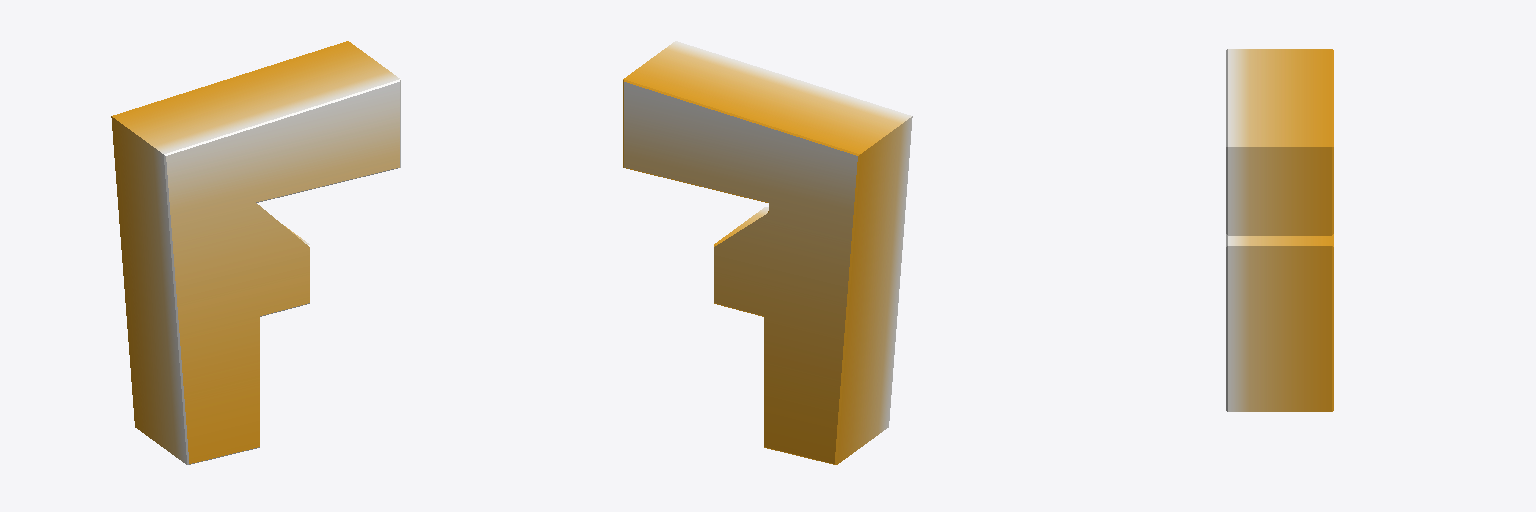
3 views of the same model, side by side, from view 1: azimuth 30°, elevation 25°; view 2: azimuth 150°, elevation 25°; view 3: azimuth 270°, elevation 25° (orthographic).
Parts seen in each view (by area): view 1: polySurface8; view 2: polySurface8; view 3: polySurface8.
Boxes of the visible parts, box(x1,y1,x2,y2) form: polySurface8: box(111, 41, 400, 464); polySurface8: box(623, 41, 912, 464); polySurface8: box(1226, 49, 1333, 411).
Size of the model in its own units: 1.67 by 2.25 by 0.6578.
Materials: 1 (1 with a texture image).